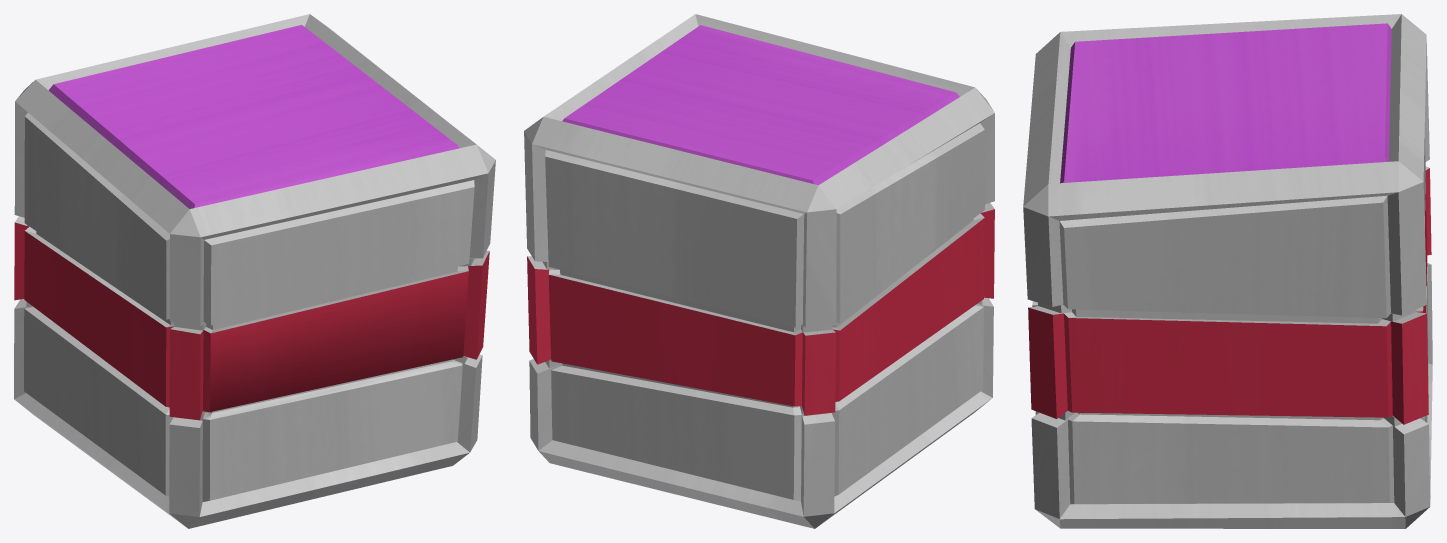
3 views of the same model, side by side, from view 1: azimuth 30°, elevation 25°; view 2: azimuth 150°, elevation 25°; view 3: azimuth 270°, elevation 25° (orthographic). The views are drawn at different scales.
Parts seen in each view (by area): view 1: Box1; view 2: Box1; view 3: Box1.
Boxes of the visible parts, x1,y1,x2,y2 form: Box1: (14, 14, 495, 528); Box1: (524, 14, 994, 528); Box1: (1023, 14, 1432, 528).
Bounding box in the file's own units: 80 × 80.49 × 80.13.
